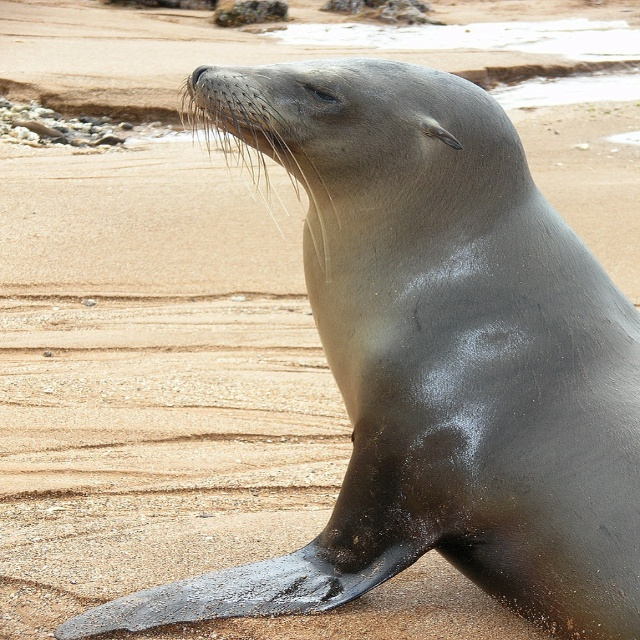Sea lion: (49, 59, 639, 640)
